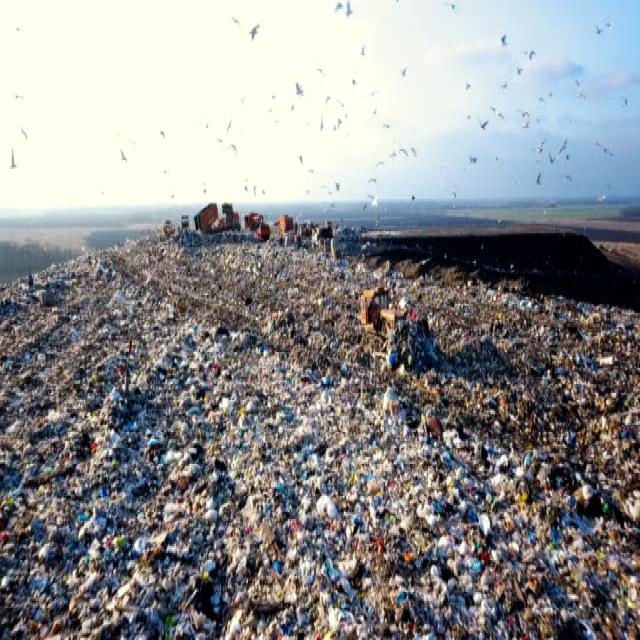plastic: (53, 293, 537, 640)
